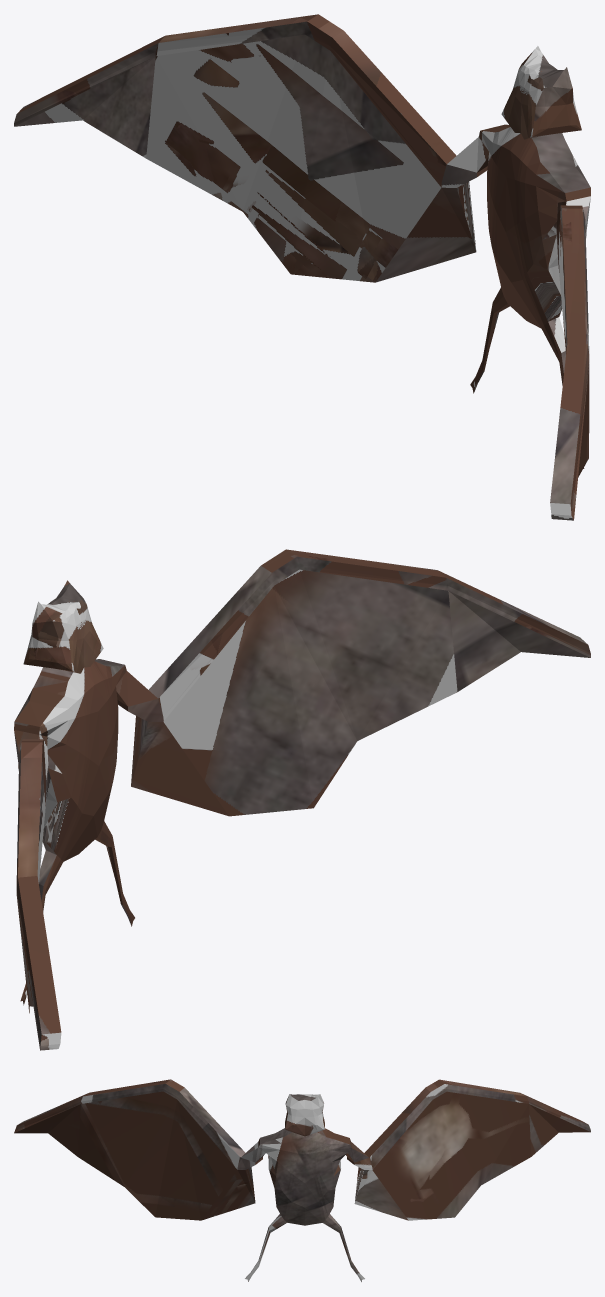
The model's file is Enemigo17.obj.
3 views of the same model, one above another, from view 1: azimuth 30°, elevation 25°; view 2: azimuth 150°, elevation 25°; view 3: azimuth 270°, elevation 25° (orthographic). The views are drawn at different scales.
Visible parts, largest first — view 1: Plano; view 2: Plano; view 3: Plano.
Boxes of the visible parts, x1,y1,x2,y2 form: Plano: (14,14,590,520); Plano: (14,549,590,1050); Plano: (14,1079,590,1281).
Bounding box in the file's own units: 0.6125 × 0.7578 × 2.03.
Materials: 1 (1 with a texture image).
